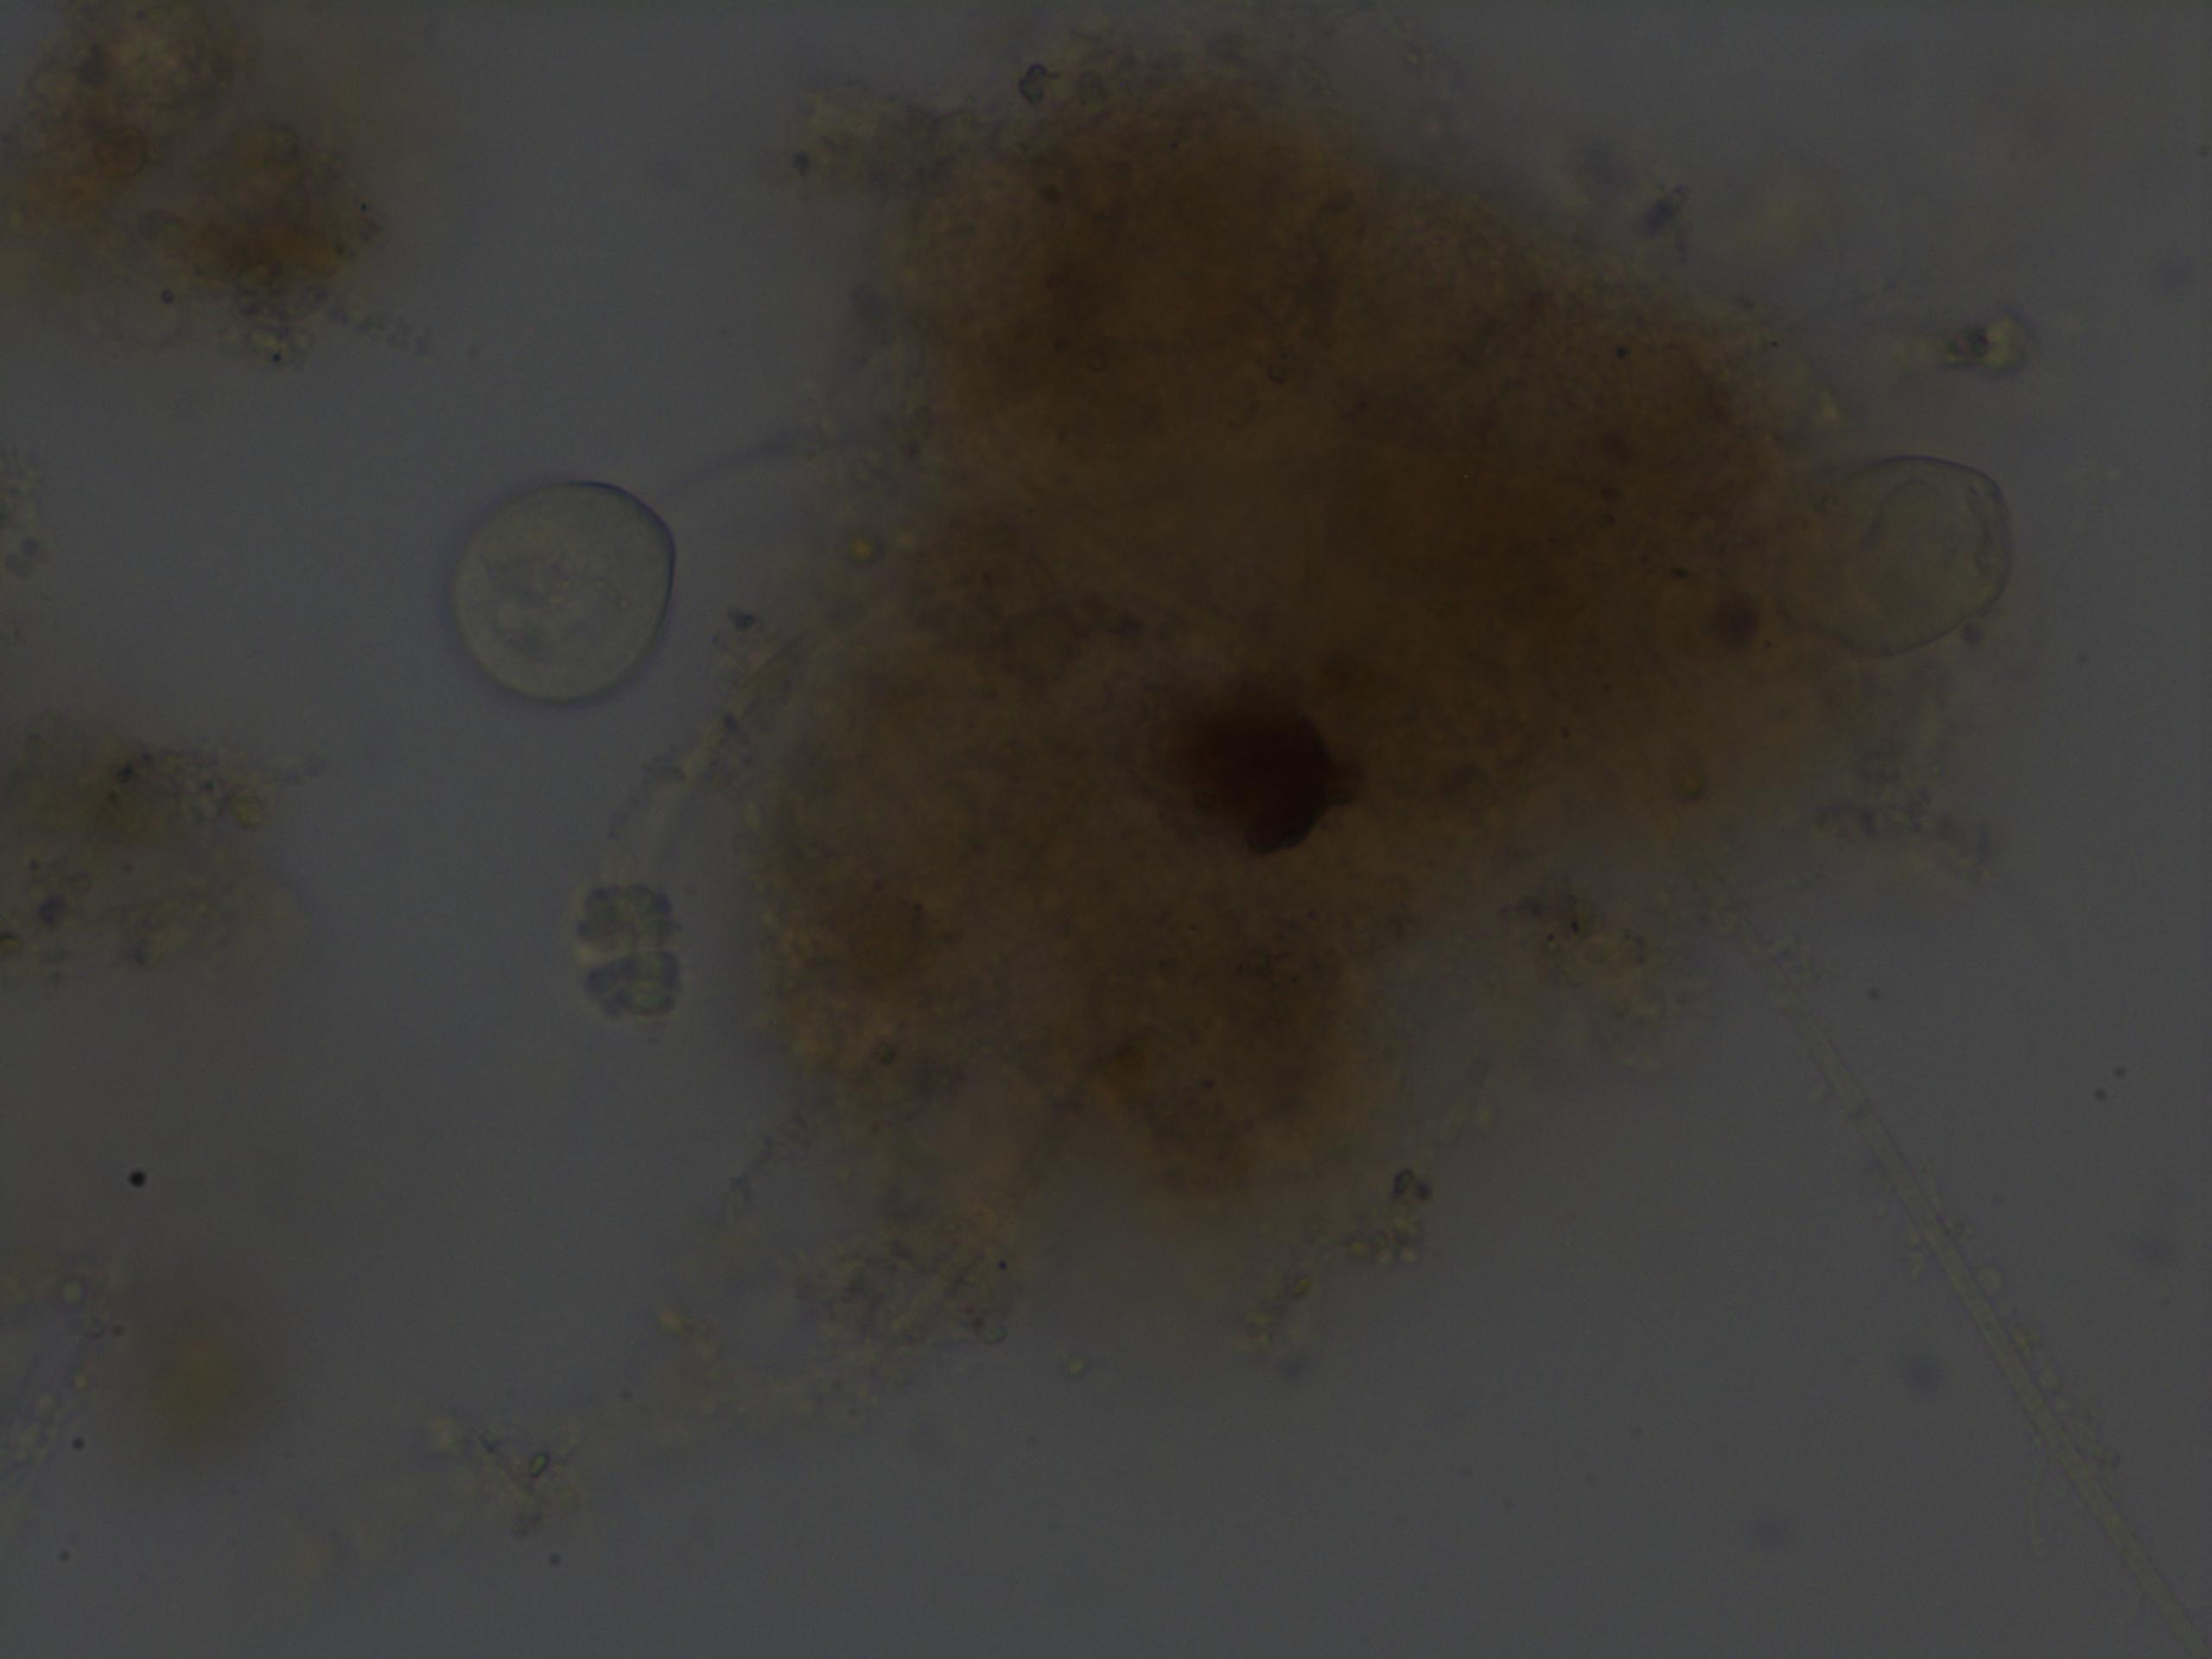filament: (1731, 932, 2212, 1659)
